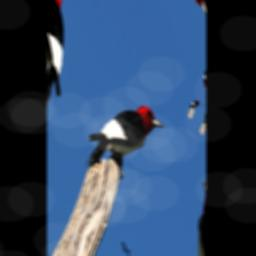Woodpecker: (78, 62, 166, 222)
